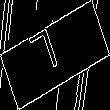L_SE: (37, 26, 73, 84)
